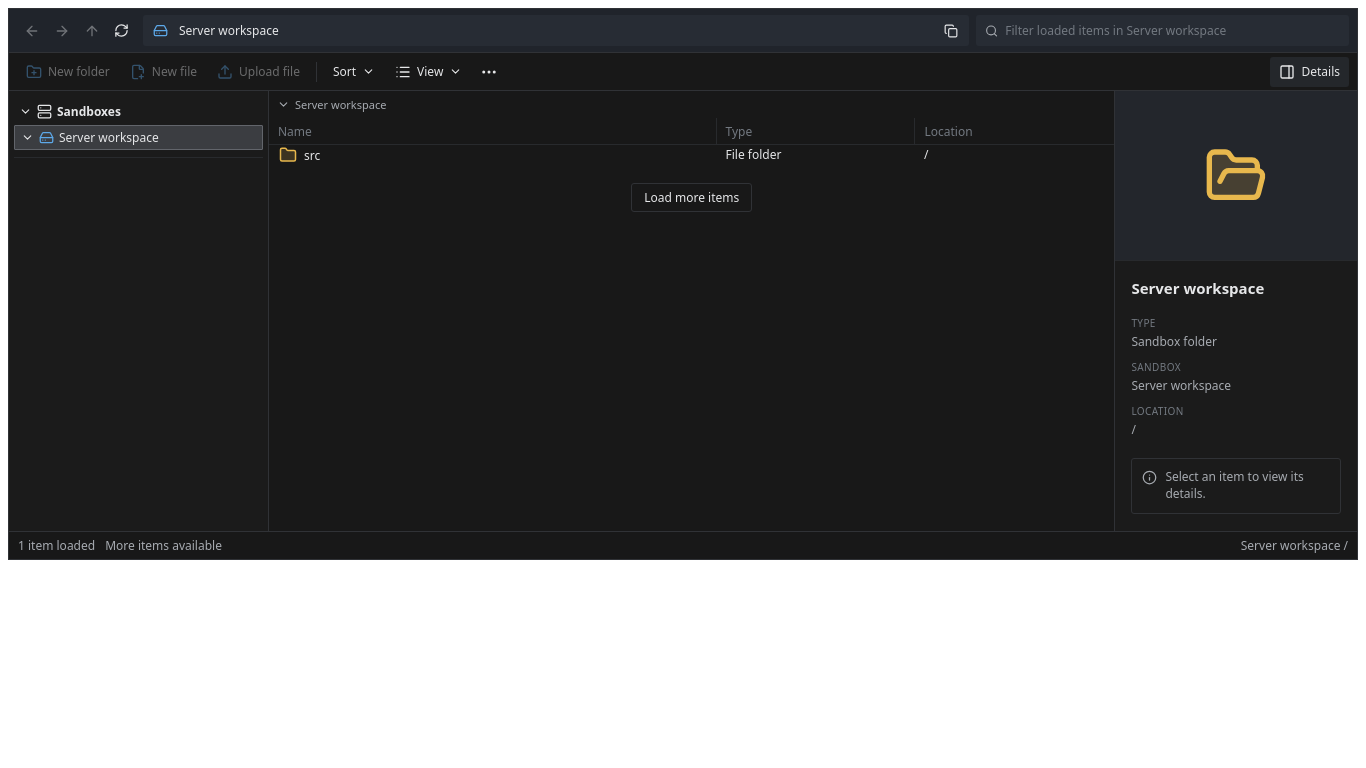
Test: SandboxExplorerView › hides mutation controls for read-only roots
The image size is (1366, 768).
Click the button "src File folder /".
click(753, 154)  # box [269,145,1114,175]
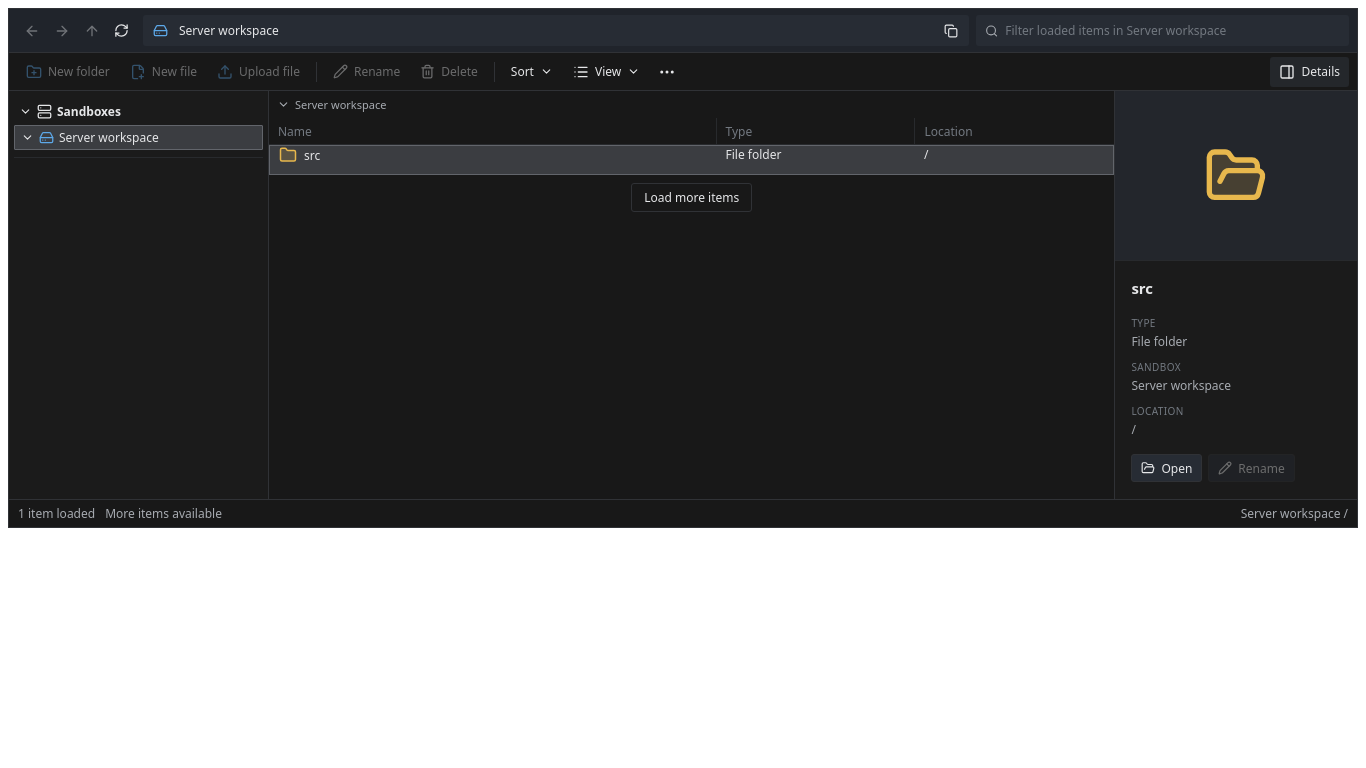
Expected: the button "New folder" is disabled, [17,56,119,86]
Now the button "Delete" is disabled, box [411,56,487,86]
Right-click the button "src File folder /".
right_click(753, 154)  # box [269,145,1114,175]
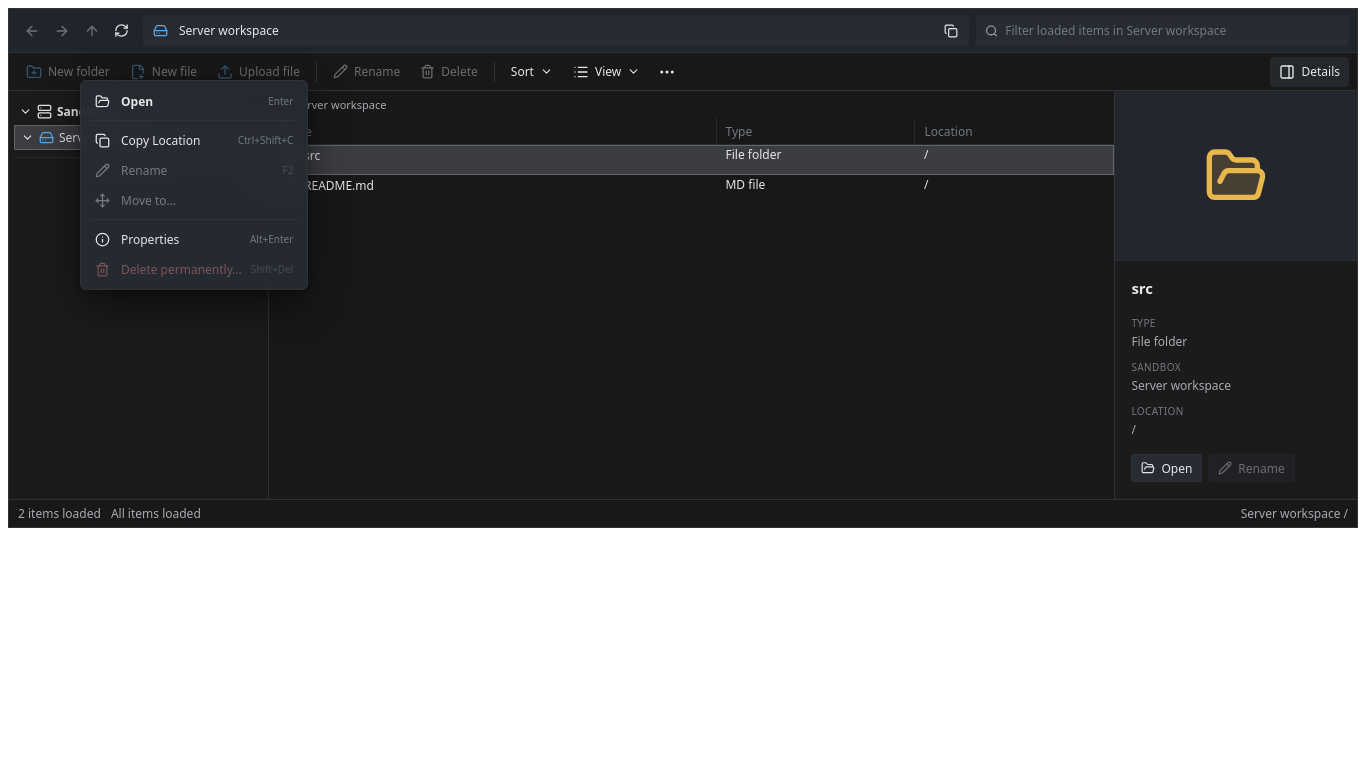
Now the menu item "Rename F2" is disabled, box [86,155,302,185]
Now the menu item "Move to…" is disabled, box [86,185,302,215]
Now the menu item "Delete permanently… Shift+Del" is disabled, box [86,254,302,284]
